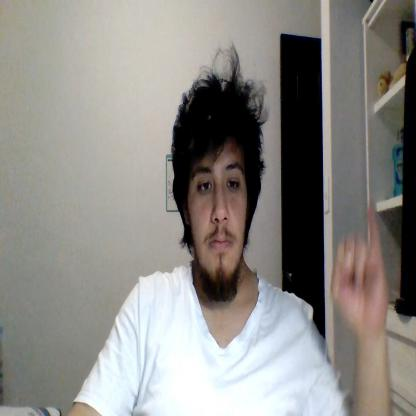I: (331, 200, 389, 330)
